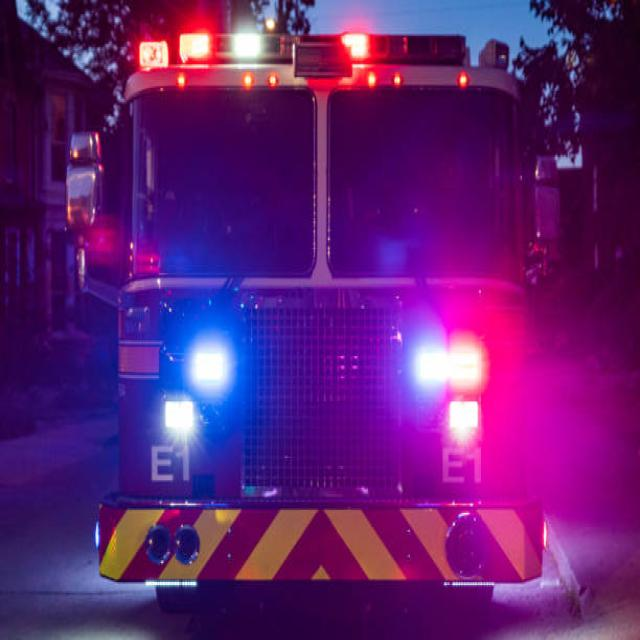emergency lights: (170, 283, 488, 490), (124, 20, 480, 114)
